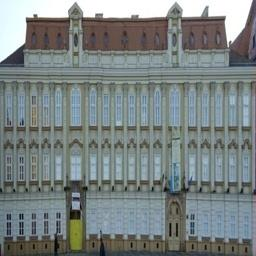building: (6, 8, 256, 255)
